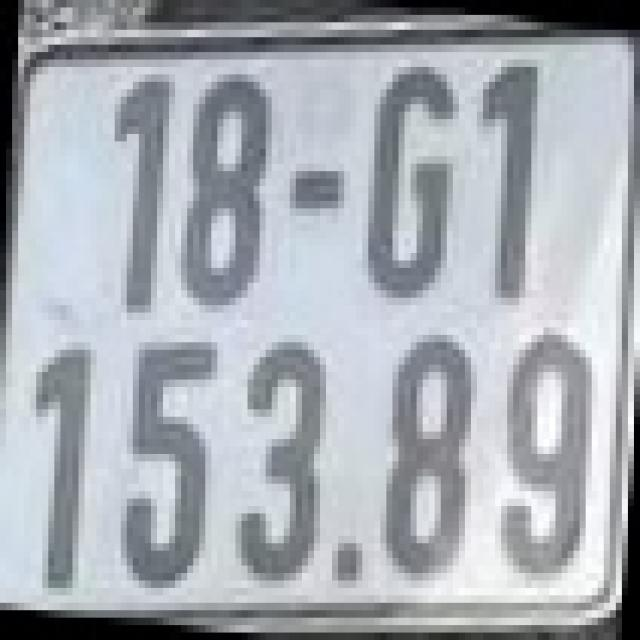1: (24, 335, 97, 588), (109, 67, 175, 313), (477, 52, 543, 298)
3: (236, 335, 326, 580)
5: (121, 335, 217, 588)
8: (380, 328, 477, 580), (181, 67, 272, 305)
9: (501, 327, 598, 573)
G: (362, 60, 459, 298)
